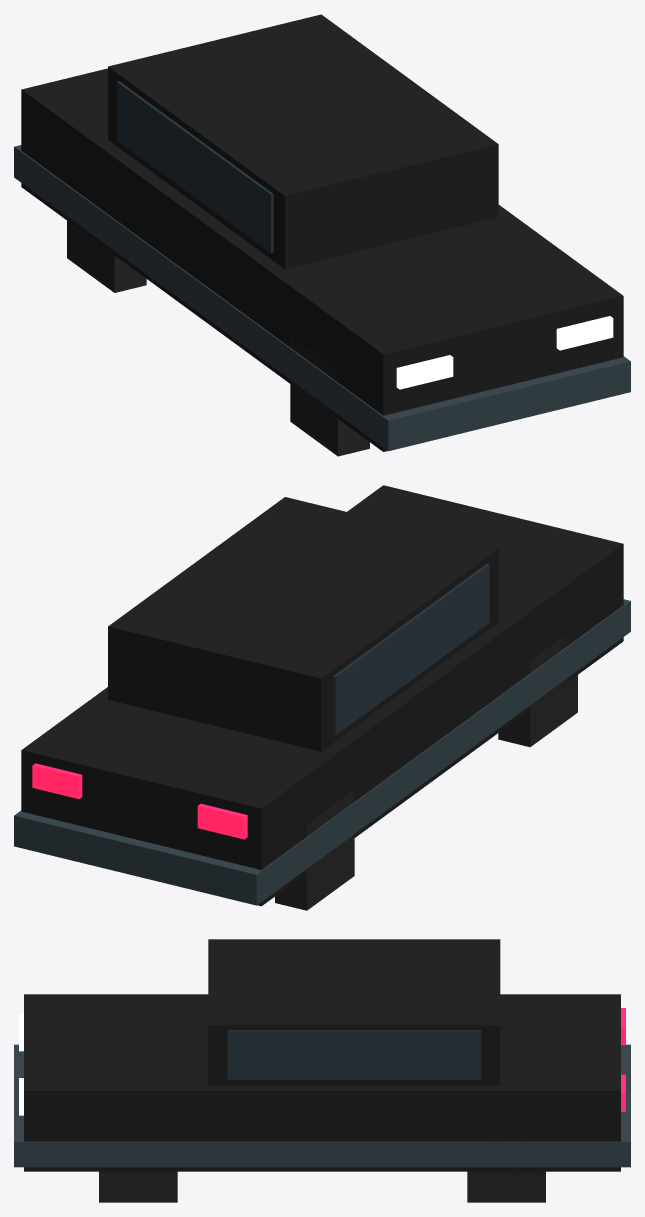
The model's file is town_mw_sedan_lod.glb.
3 renders of one model, top to bottom at view 1: azimuth 30°, elevation 25°; view 2: azimuth 150°, elevation 25°; view 3: azimuth 270°, elevation 25°, orthographic. The views are drawn at different scales.
Parts seen in each view (by area): view 1: TownMwSedanLod_body; view 2: TownMwSedanLod_body; view 3: TownMwSedanLod_body.
Boxes of the visible parts, box(x1,y1,x2,y2) form: TownMwSedanLod_body: box(14, 14, 630, 456); TownMwSedanLod_body: box(14, 485, 630, 910); TownMwSedanLod_body: box(14, 939, 630, 1202).
Size of the model in its own units: 1.82 by 1.5 by 4.86.
